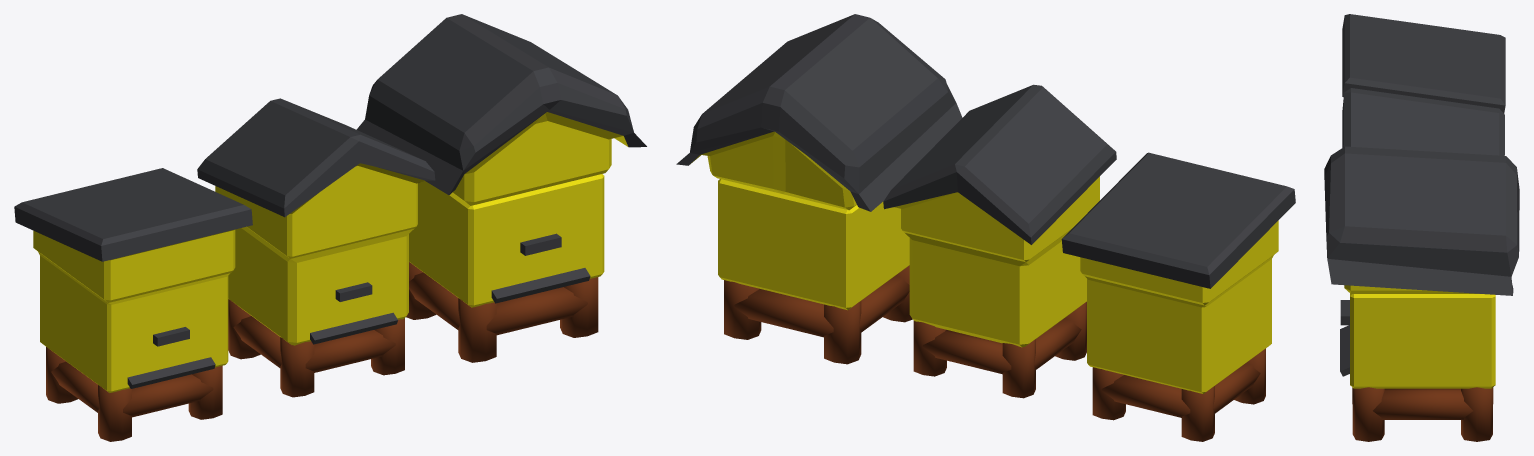
File: Apiary.fbx
3 renders of one model, left to right at view 1: azimuth 30°, elevation 25°; view 2: azimuth 150°, elevation 25°; view 3: azimuth 270°, elevation 25°, orthographic. The views are drawn at different scales.
Parts seen in each view (by area): view 1: Cube.002, Cube.001, Cube.003; view 2: Cube.002, Cube.001, Cube.003; view 3: Cube.002, Cube.003, Cube.001.
Part boxes in pixels (x1,y1,x2,y2): Cube.002: (356, 14, 646, 362); Cube.001: (197, 98, 435, 397); Cube.003: (14, 168, 252, 441); Cube.002: (676, 14, 962, 364); Cube.001: (883, 84, 1116, 398); Cube.003: (1061, 152, 1295, 441); Cube.002: (1324, 146, 1519, 441); Cube.003: (1342, 14, 1505, 113); Cube.001: (1342, 88, 1504, 155).
Bounding box in the file's own units: 887 × 444 × 300.
